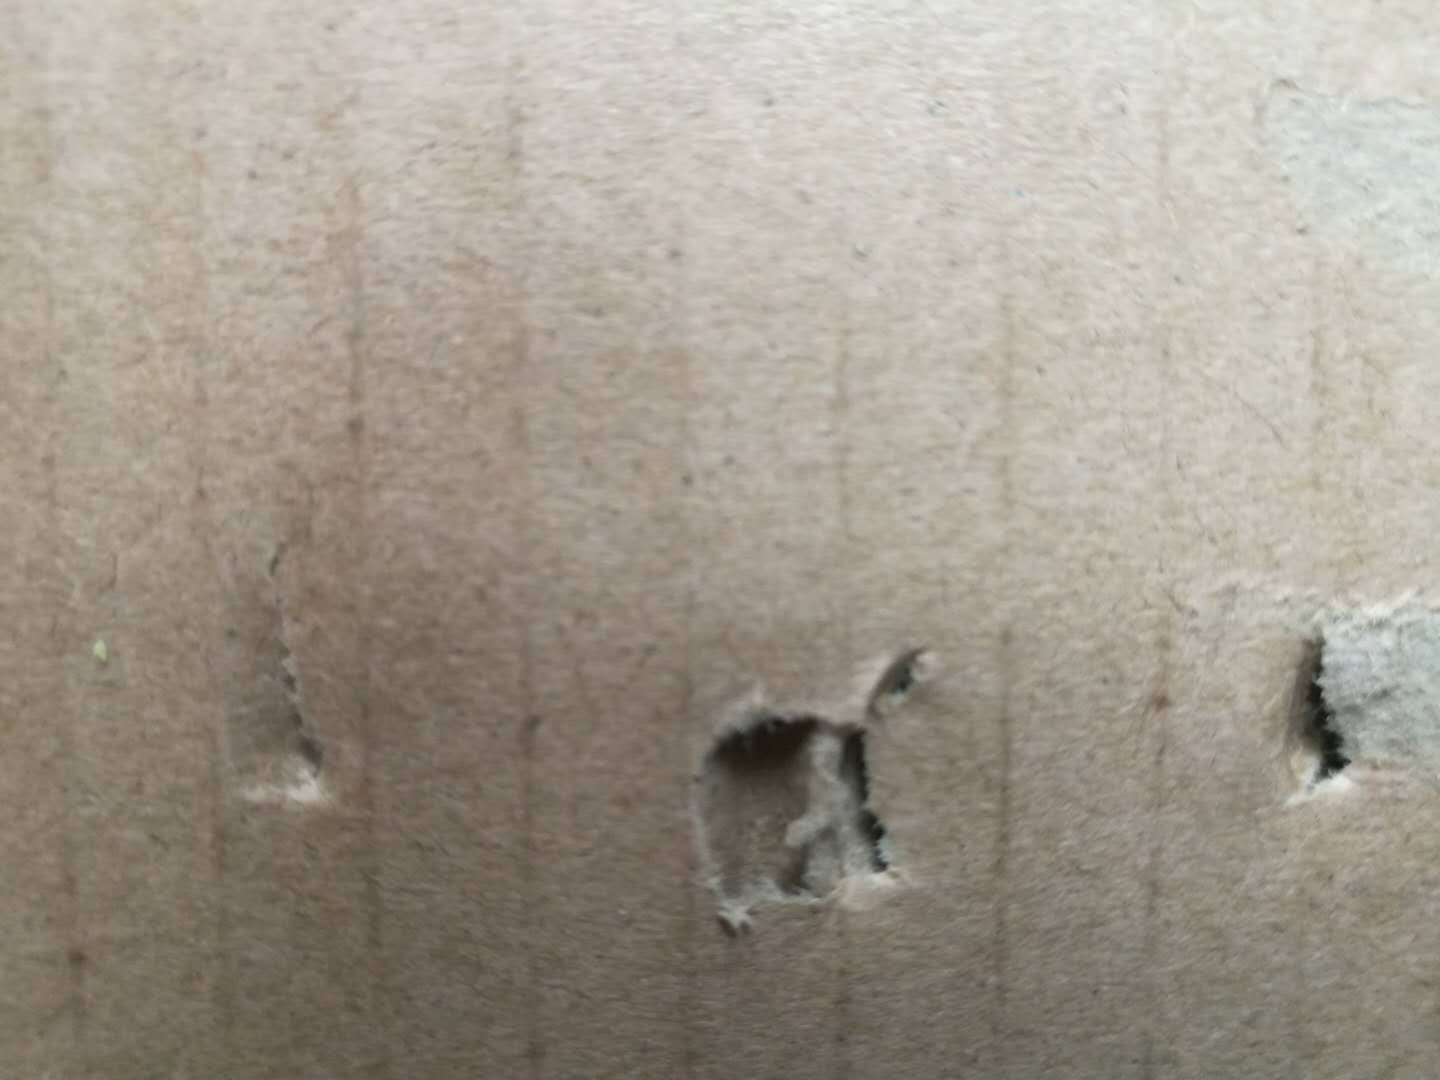defect: (644, 621, 968, 962), (1187, 548, 1440, 834), (172, 479, 371, 843), (1247, 56, 1440, 301)
